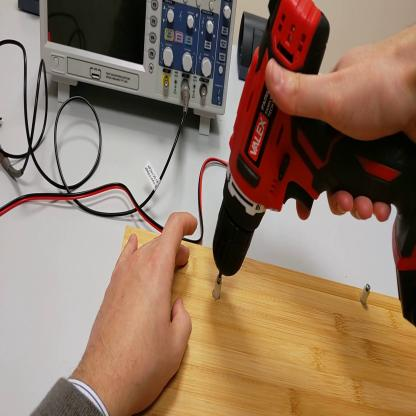electric screwdriver: (213, 2, 416, 327)
hand: (267, 35, 414, 237), (88, 212, 197, 404)
oscilloscope: (39, 2, 239, 138)
socket: (19, 2, 40, 20)
working area: (106, 223, 416, 414)
